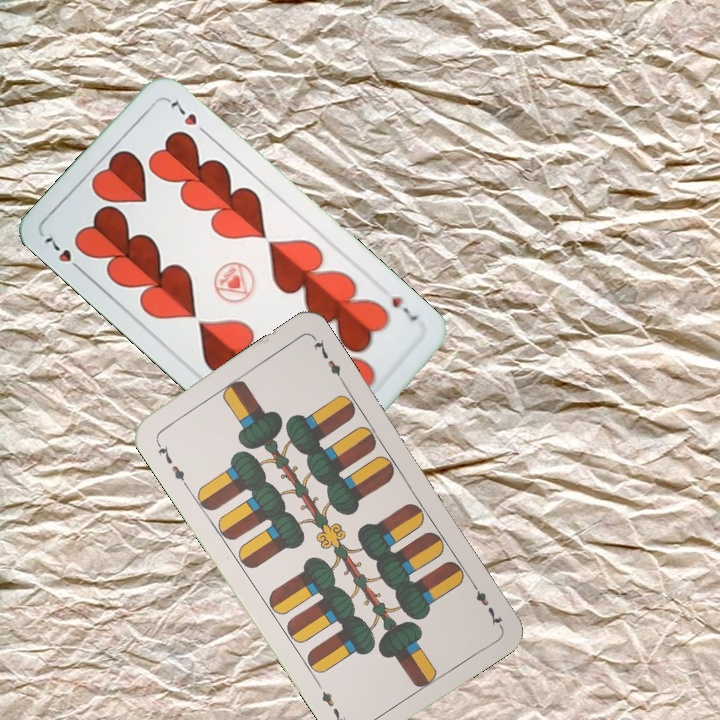E7: (466, 576, 505, 629), (152, 437, 190, 489)
H7: (39, 230, 87, 276), (387, 288, 421, 325)
